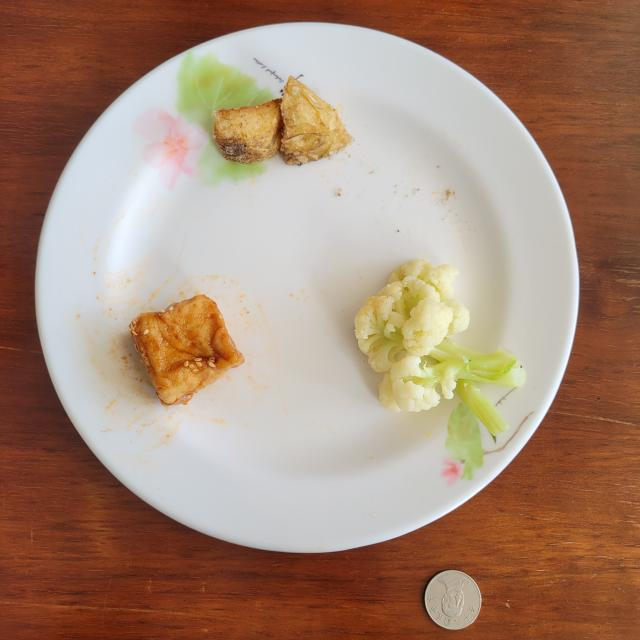coin: (425, 570, 481, 630)
creamy tofu: (130, 295, 244, 405)
fried potato: (212, 76, 352, 165)
